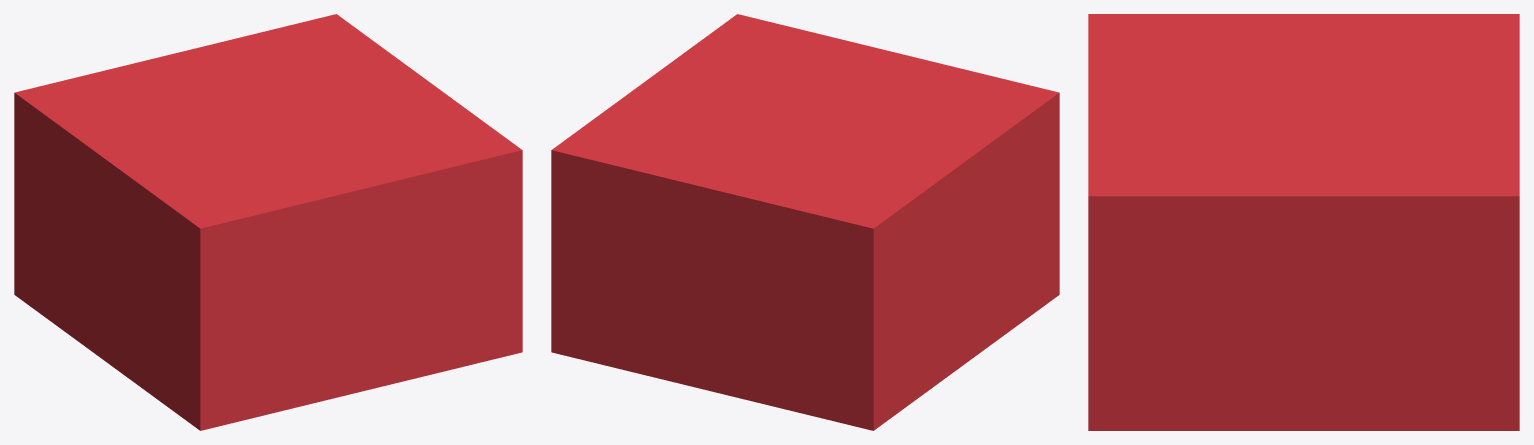
File: petal.glb
3 renders of one model, left to right at view 1: azimuth 30°, elevation 25°; view 2: azimuth 150°, elevation 25°; view 3: azimuth 270°, elevation 25°, orthographic. The views are drawn at different scales.
Parts seen in each view (by area): view 1: Petal; view 2: Petal; view 3: Petal.
Part boxes in pixels (x1,y1,x2,y2): Petal: (14, 14, 522, 430); Petal: (551, 14, 1059, 430); Petal: (1088, 14, 1519, 430).
Size of the model in its own units: 0.11 by 0.066 by 0.11.
